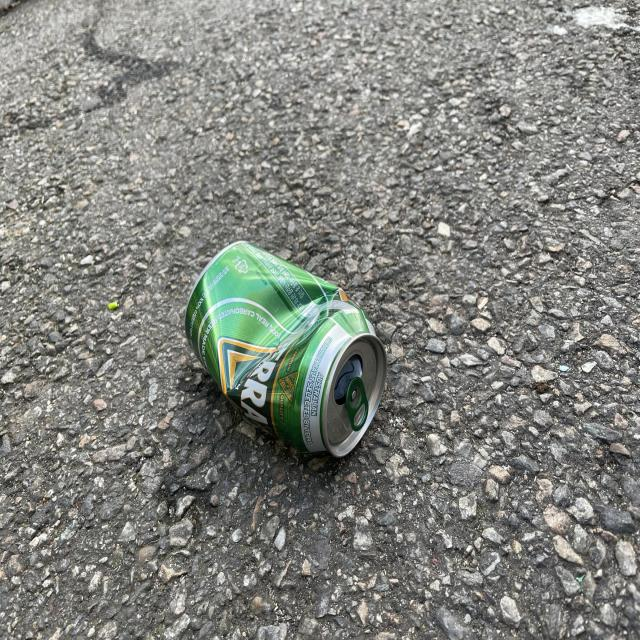can: (185, 241, 387, 457)
